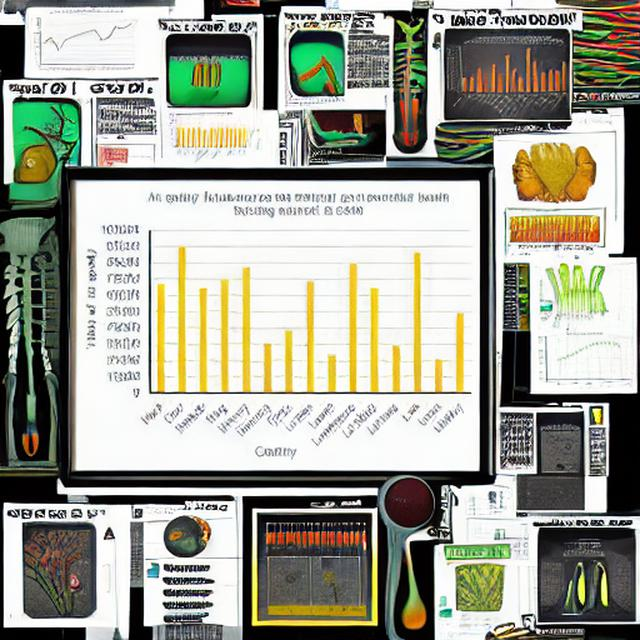Graph: (79, 184, 478, 466), (444, 33, 570, 120), (27, 8, 136, 76), (532, 330, 635, 391), (158, 112, 251, 166), (527, 476, 585, 510)
